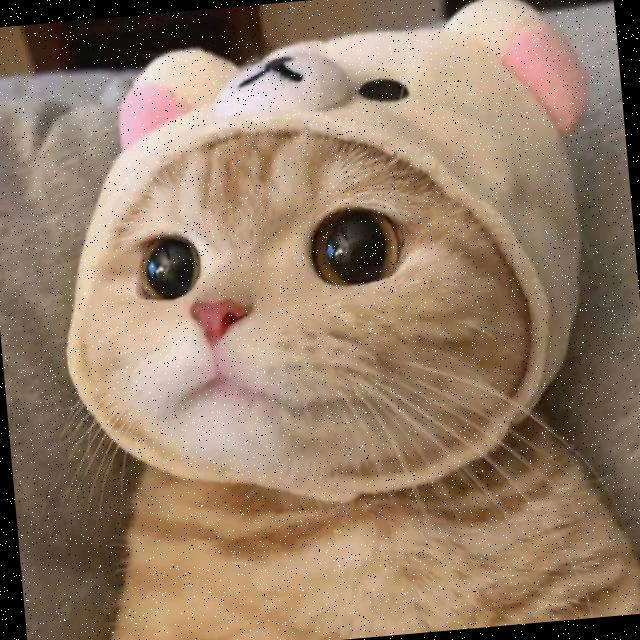Happy: (89, 130, 462, 477)
